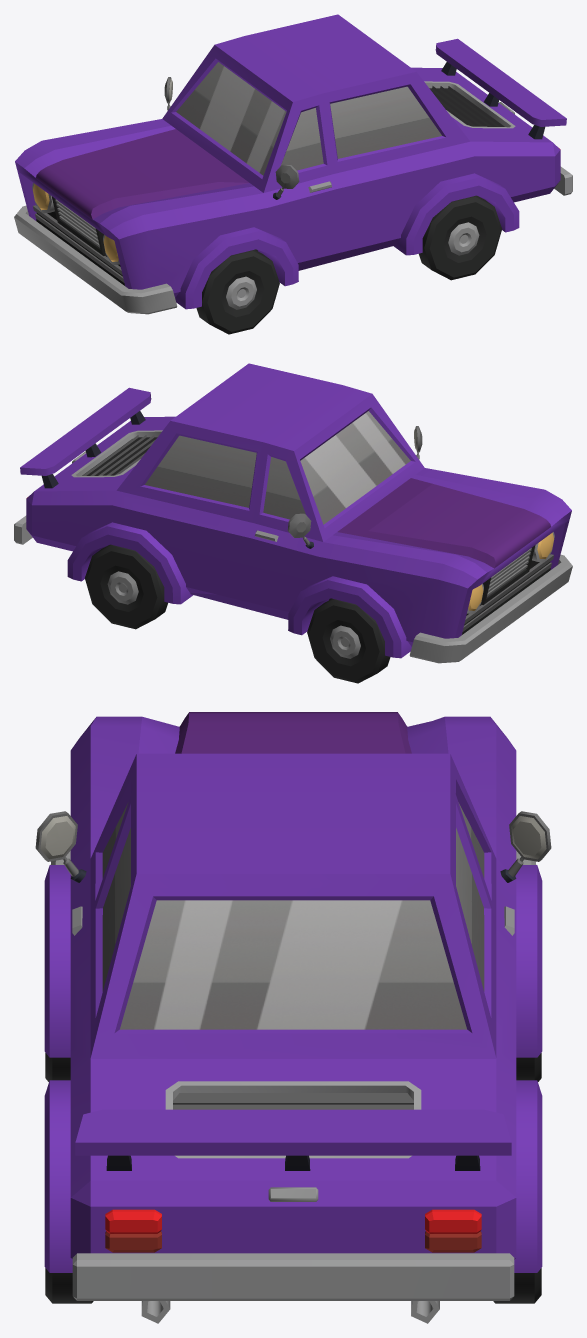
File: Car_9_Z.gltf
3 views of the same model, one above another, from view 1: azimuth 30°, elevation 25°; view 2: azimuth 150°, elevation 25°; view 3: azimuth 270°, elevation 25° (orthographic). The views are drawn at different scales.
Parts seen in each view (by area): view 1: Car_9_Z, RL, FL; view 2: Car_9_Z, RR, FR; view 3: Car_9_Z, RL, RR.
Part boxes in pixels (x1,y1,x2,y2): Car_9_Z: (14,14,572,314); RL: (419,195,501,280); FL: (196,249,279,334); Car_9_Z: (14,363,572,663); RR: (85,544,167,629); FR: (307,598,390,683); Car_9_Z: (35,712,551,1323); RL: (45,1268,93,1303); RR: (493,1268,541,1303).
Bounding box in the file's own units: 3.1 × 1.28 × 1.51.
Materials: 4 (4 with a texture image).
